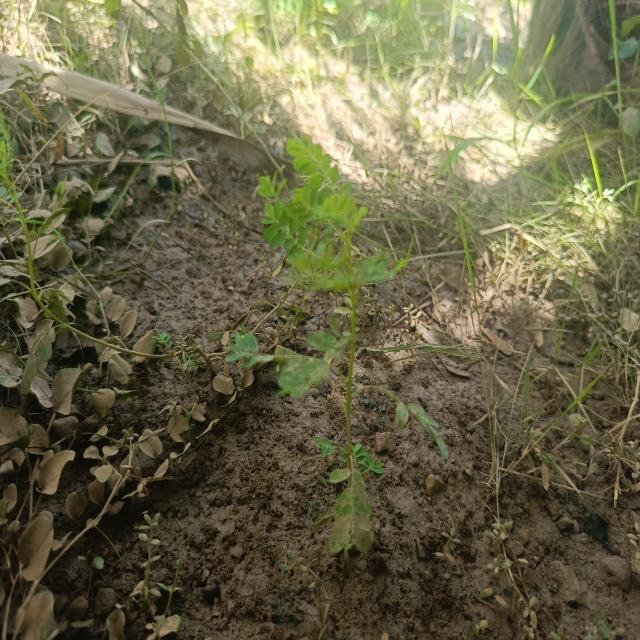weed: (251, 134, 412, 559)
